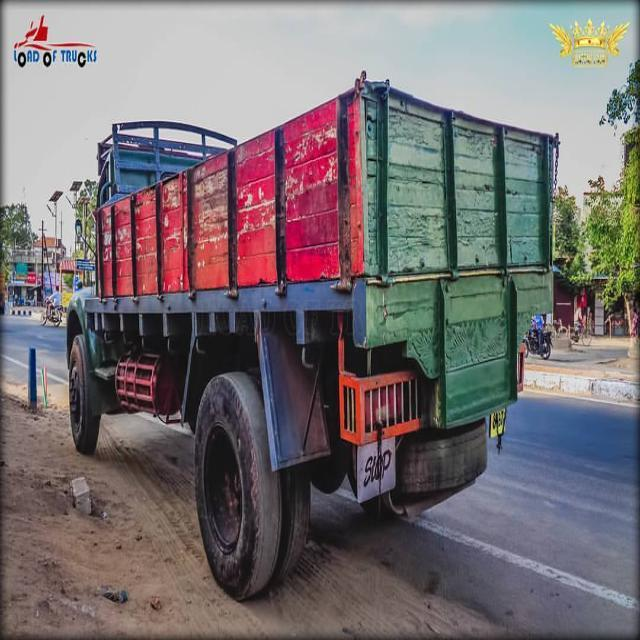Truck: (64, 67, 562, 624)
